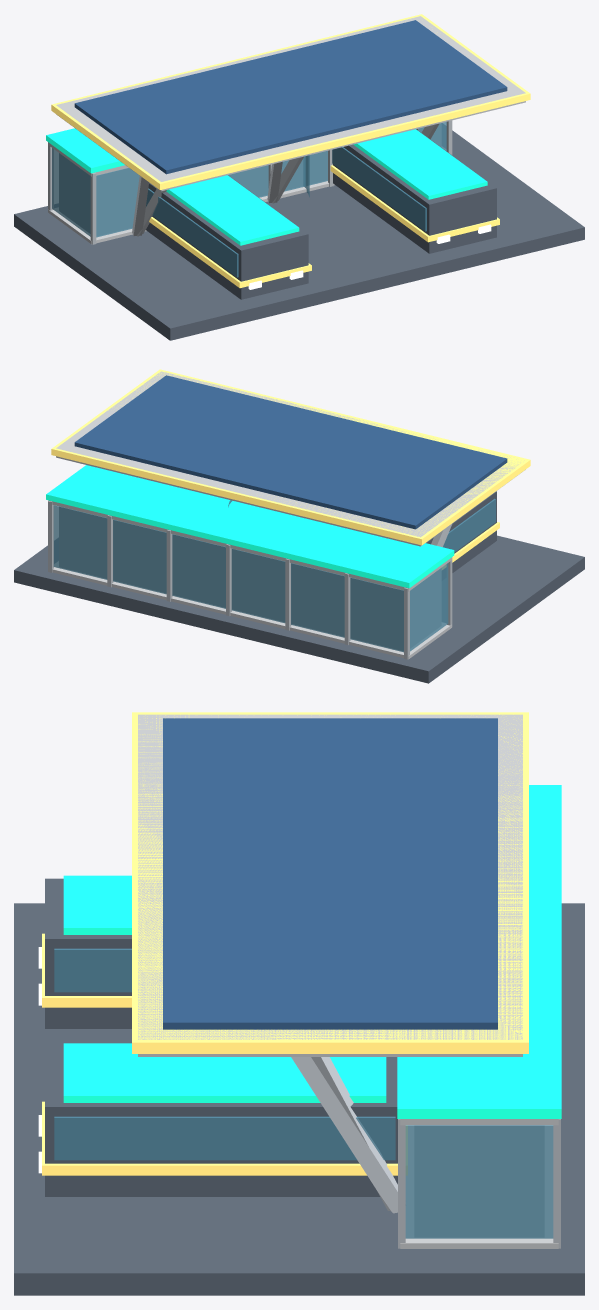
File: executive_fleet_terminal.master.glb
3 views of the same model, one above another, from view 1: azimuth 30°, elevation 25°; view 2: azimuth 150°, elevation 25°; view 3: azimuth 270°, elevation 25° (orthographic). The views are drawn at different scales.
Visible parts, largest first — view 1: executive_fleet_terminal_master; view 2: executive_fleet_terminal_master; view 3: executive_fleet_terminal_master.
Boxes of the visible parts, left/top/right/bottom form: executive_fleet_terminal_master: left=14, top=14, right=584, bottom=340; executive_fleet_terminal_master: left=14, top=369, right=584, bottom=683; executive_fleet_terminal_master: left=14, top=712, right=584, bottom=1295.
Bounding box in the file's own units: 2.82 × 0.855 × 1.84.
